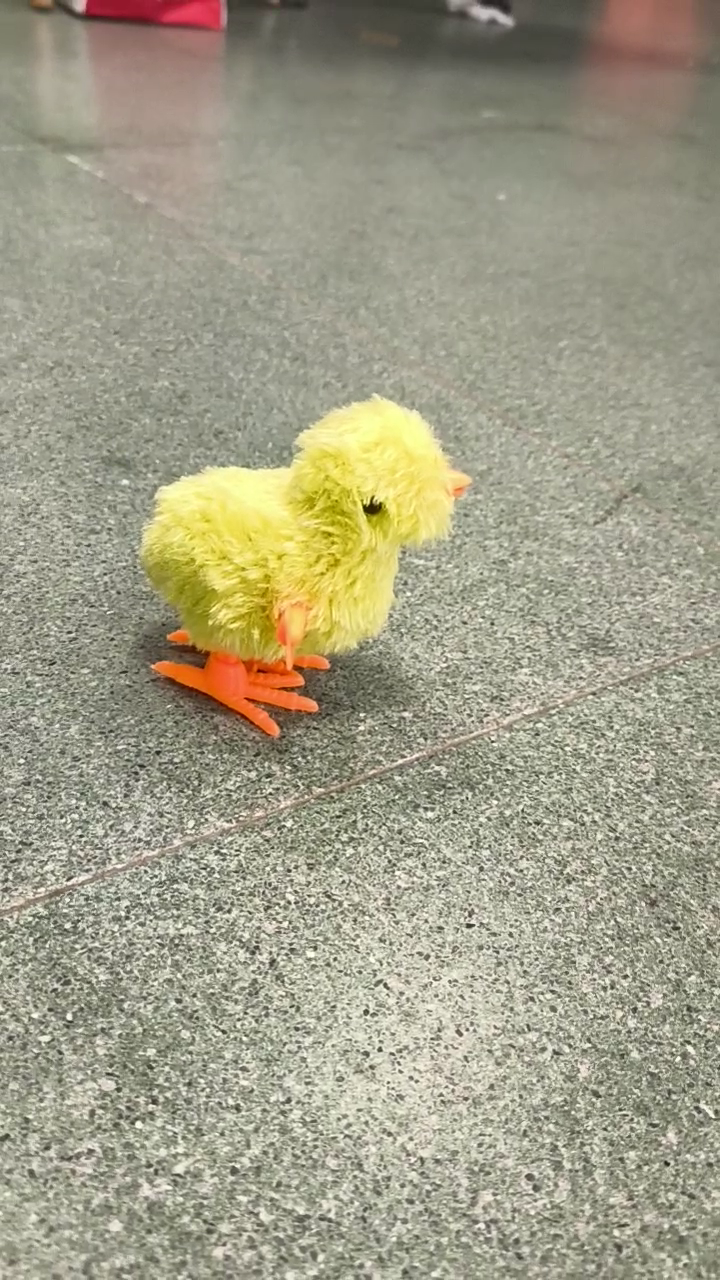yellow chicken: (135, 391, 476, 740)
